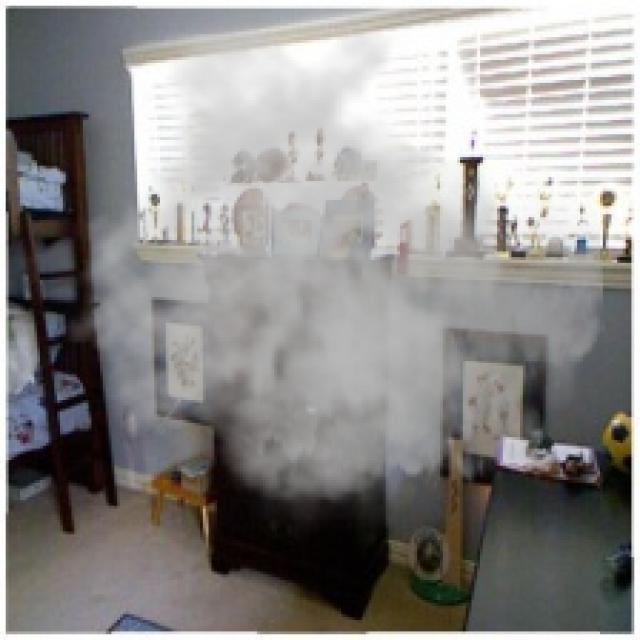Smoke: (63, 34, 606, 552)
